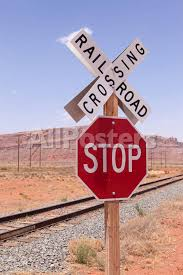Stop: (81, 121, 150, 197)
